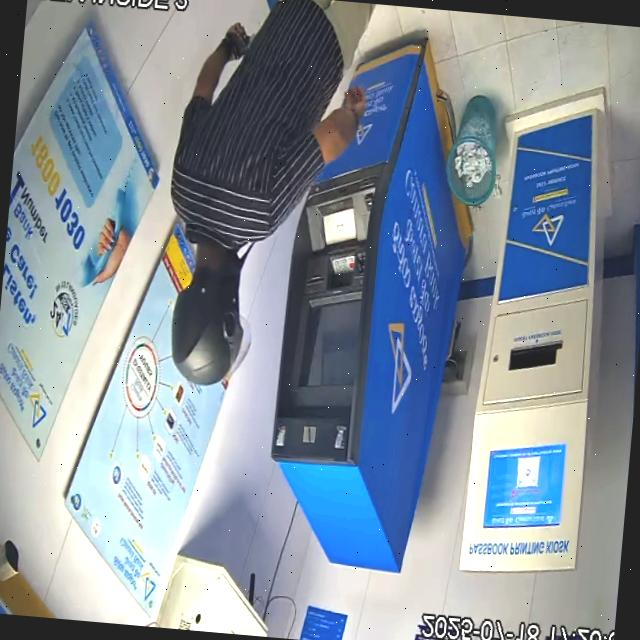helmet: (170, 269, 251, 386)
